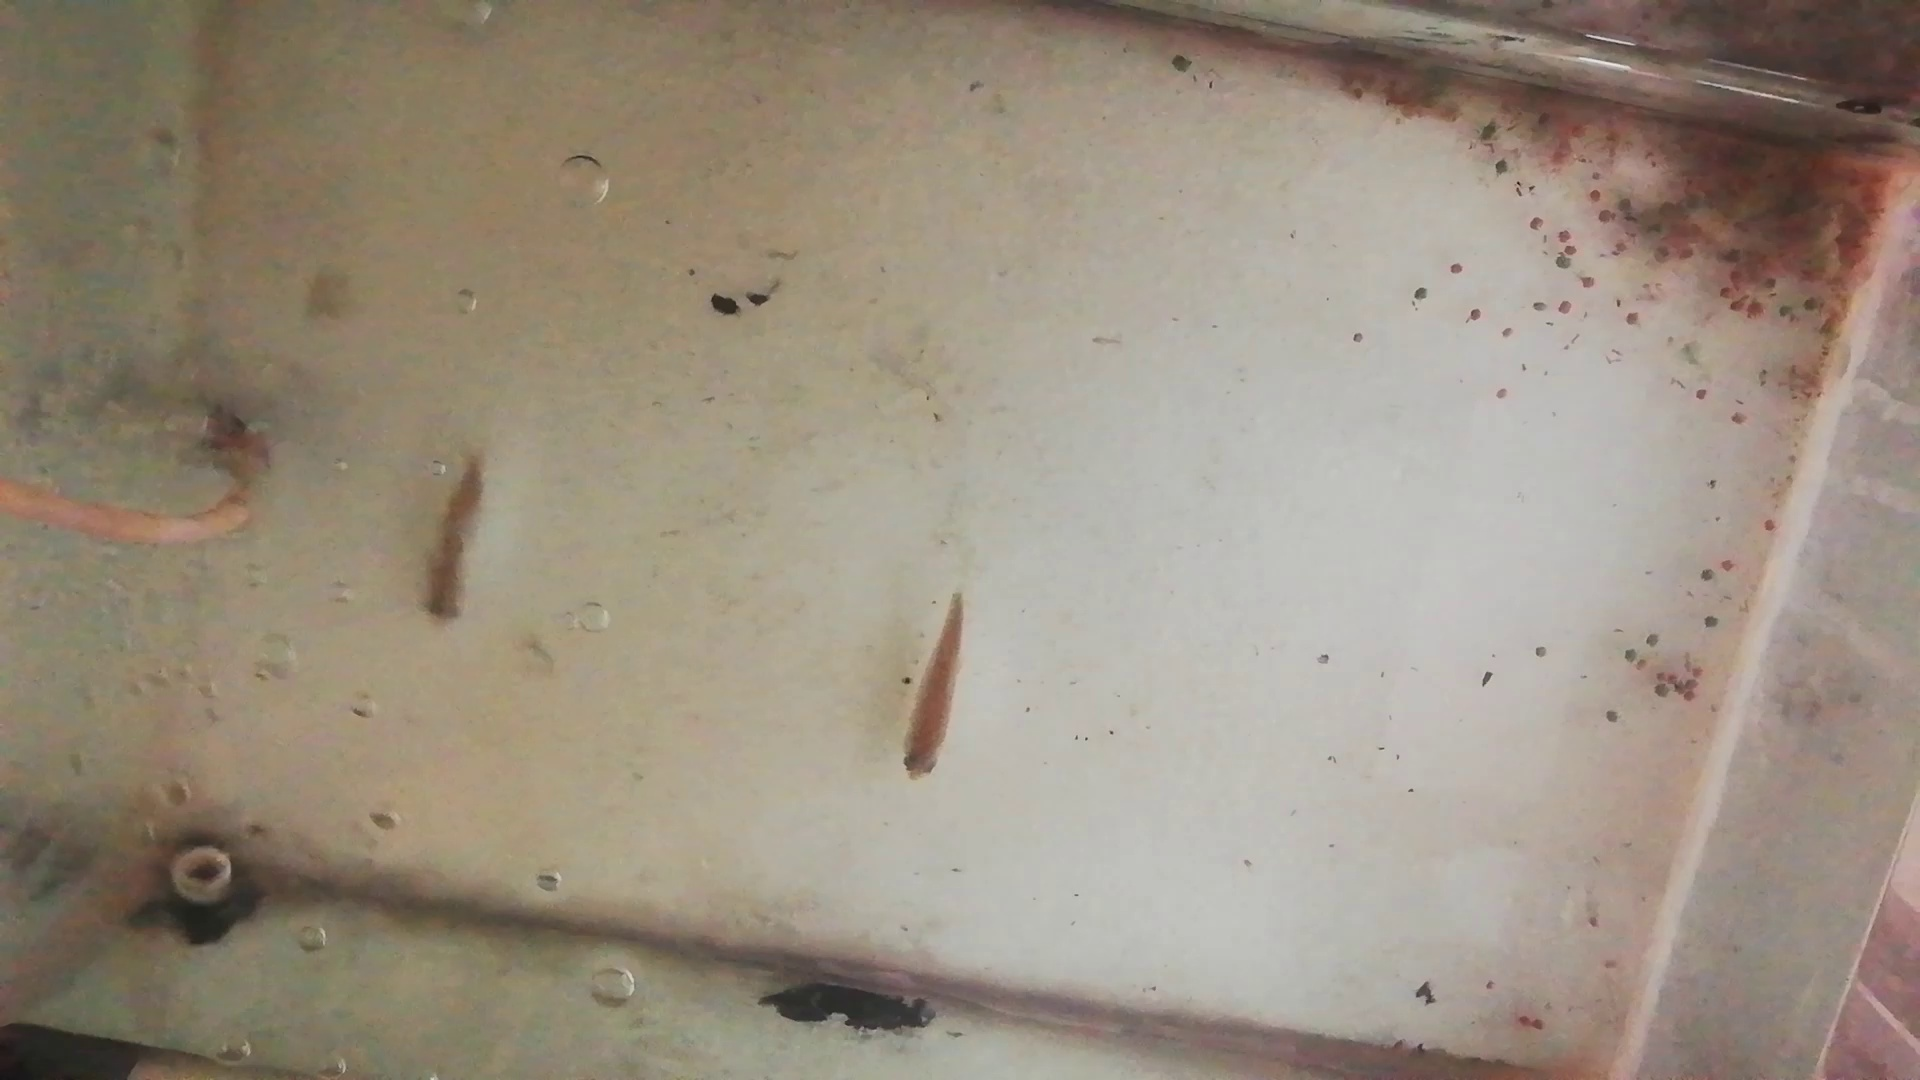fish: (893, 589, 967, 785), (419, 456, 487, 636)
